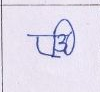i_matra: (60, 18, 79, 58)
